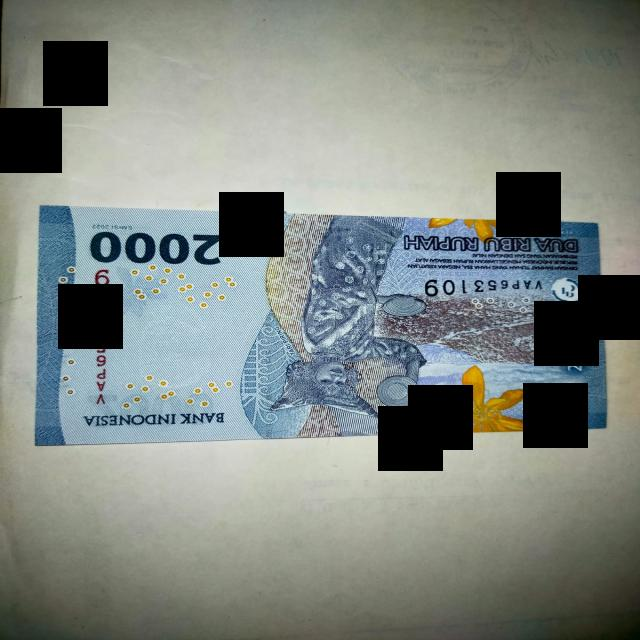dua ribu rupiah: (35, 205, 607, 445)
